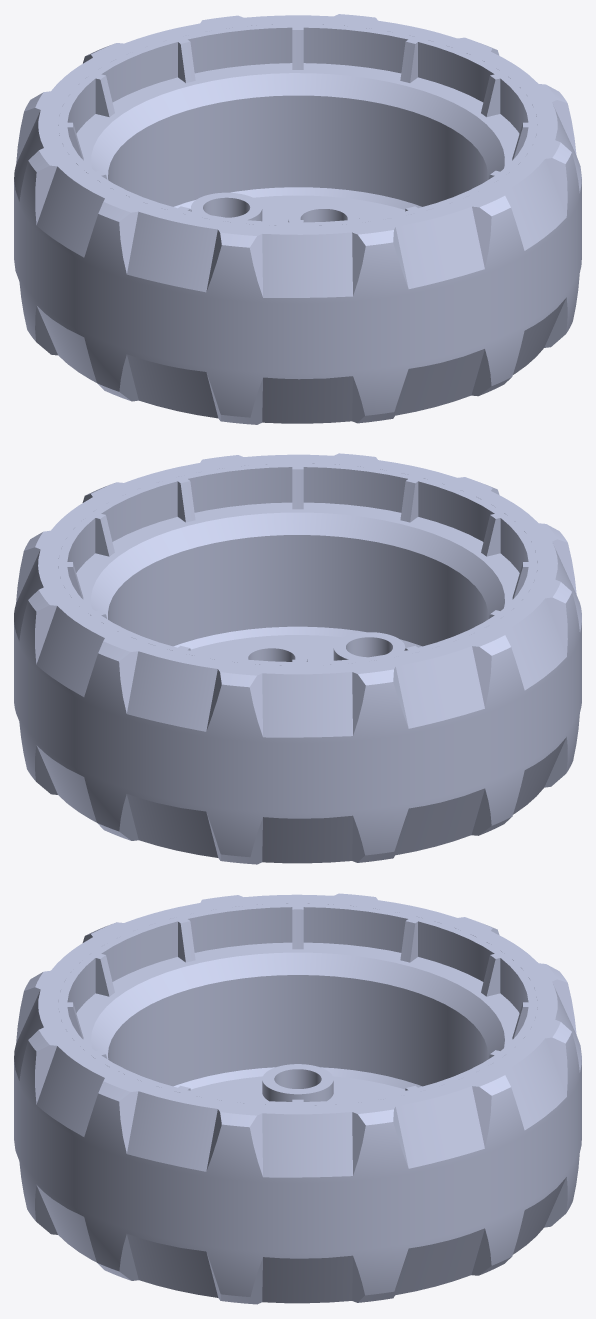
3 renders of one model, top to bottom at view 1: azimuth 30°, elevation 25°; view 2: azimuth 150°, elevation 25°; view 3: azimuth 270°, elevation 25°, orthographic.
Visible parts, largest first — view 1: NAUO2, NAUO1; view 2: NAUO2, NAUO1; view 3: NAUO2, NAUO1.
Part boxes in pixels (box(x1,y1,x2,y2)): NAUO2: box(14, 14, 581, 424); NAUO1: box(58, 24, 537, 226); NAUO2: box(14, 453, 581, 864); NAUO1: box(58, 463, 537, 665); NAUO2: box(14, 893, 581, 1304); NAUO1: box(58, 903, 537, 1105).
Bounding box in the file's own units: 0.0505 × 0.0187 × 0.0505.
